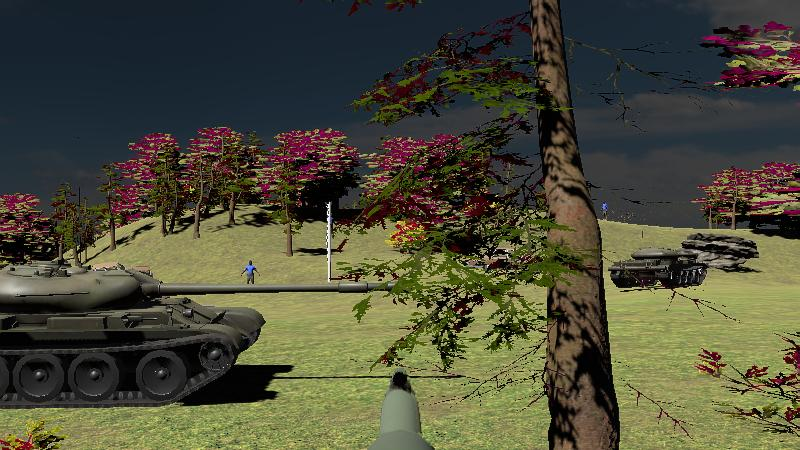Tank: (0, 260, 397, 413), (608, 246, 709, 289)
